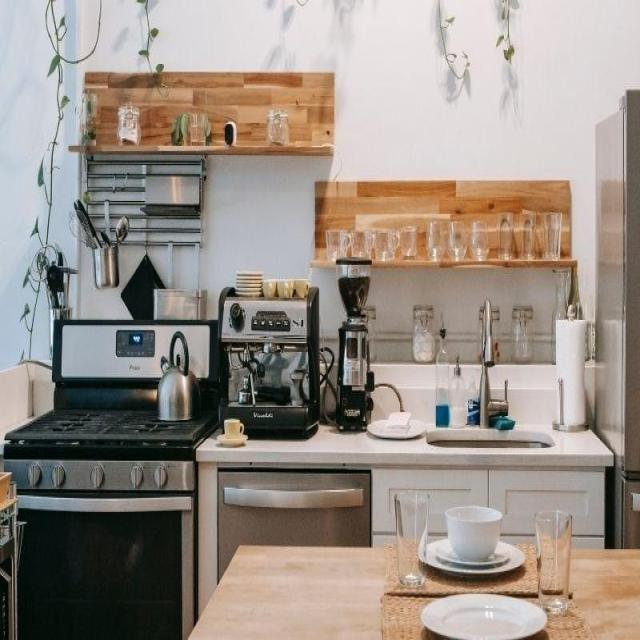dishwasher: (213, 442, 383, 640)
